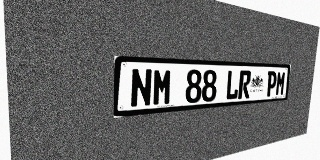8: (185, 69, 203, 103), (201, 70, 218, 102)
L: (225, 70, 240, 100)
M: (152, 69, 173, 106), (275, 71, 286, 96)
N: (130, 68, 152, 108)
P: (266, 71, 277, 97)
R: (238, 70, 251, 99)
